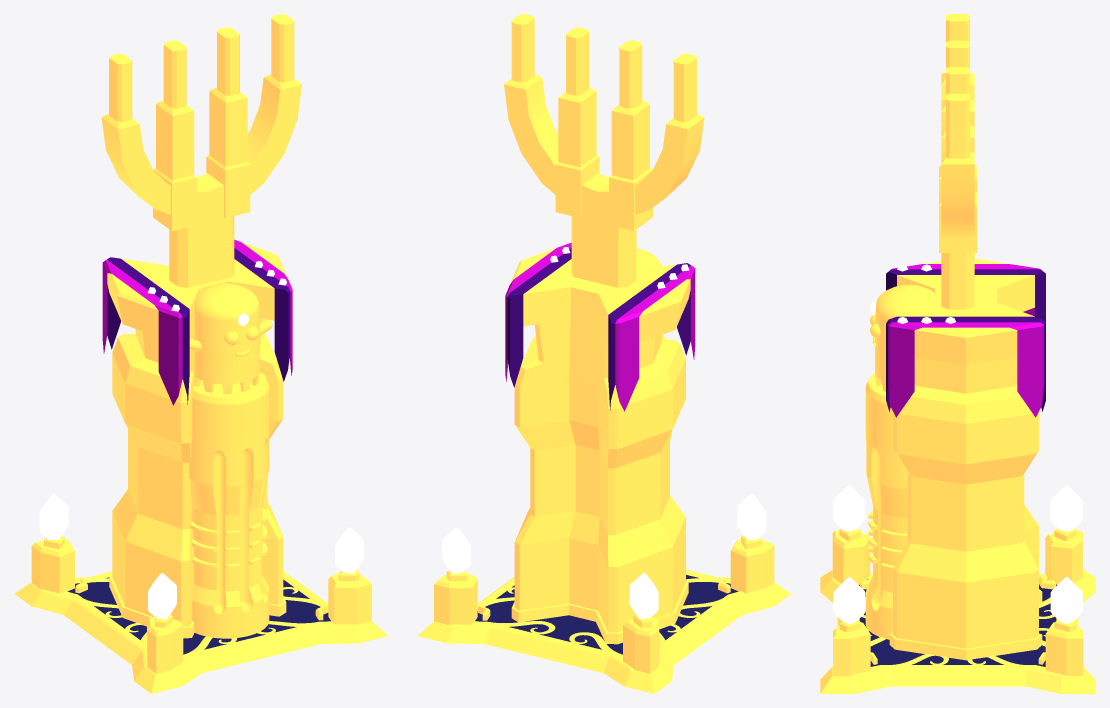
Rendered from 9_aaltar_LE_9.fbx.
3 views of the same model, side by side, from view 1: azimuth 30°, elevation 25°; view 2: azimuth 150°, elevation 25°; view 3: azimuth 270°, elevation 25° (orthographic).
Visible parts, largest first — view 1: aaltar_LE_9; view 2: aaltar_LE_9; view 3: aaltar_LE_9.
Part boxes in pixels (bbox=[...]): aaltar_LE_9: bbox=[14, 14, 387, 693]; aaltar_LE_9: bbox=[418, 14, 791, 693]; aaltar_LE_9: bbox=[820, 14, 1095, 693].
Size of the model in its own units: 78.77 by 183 by 78.73.
